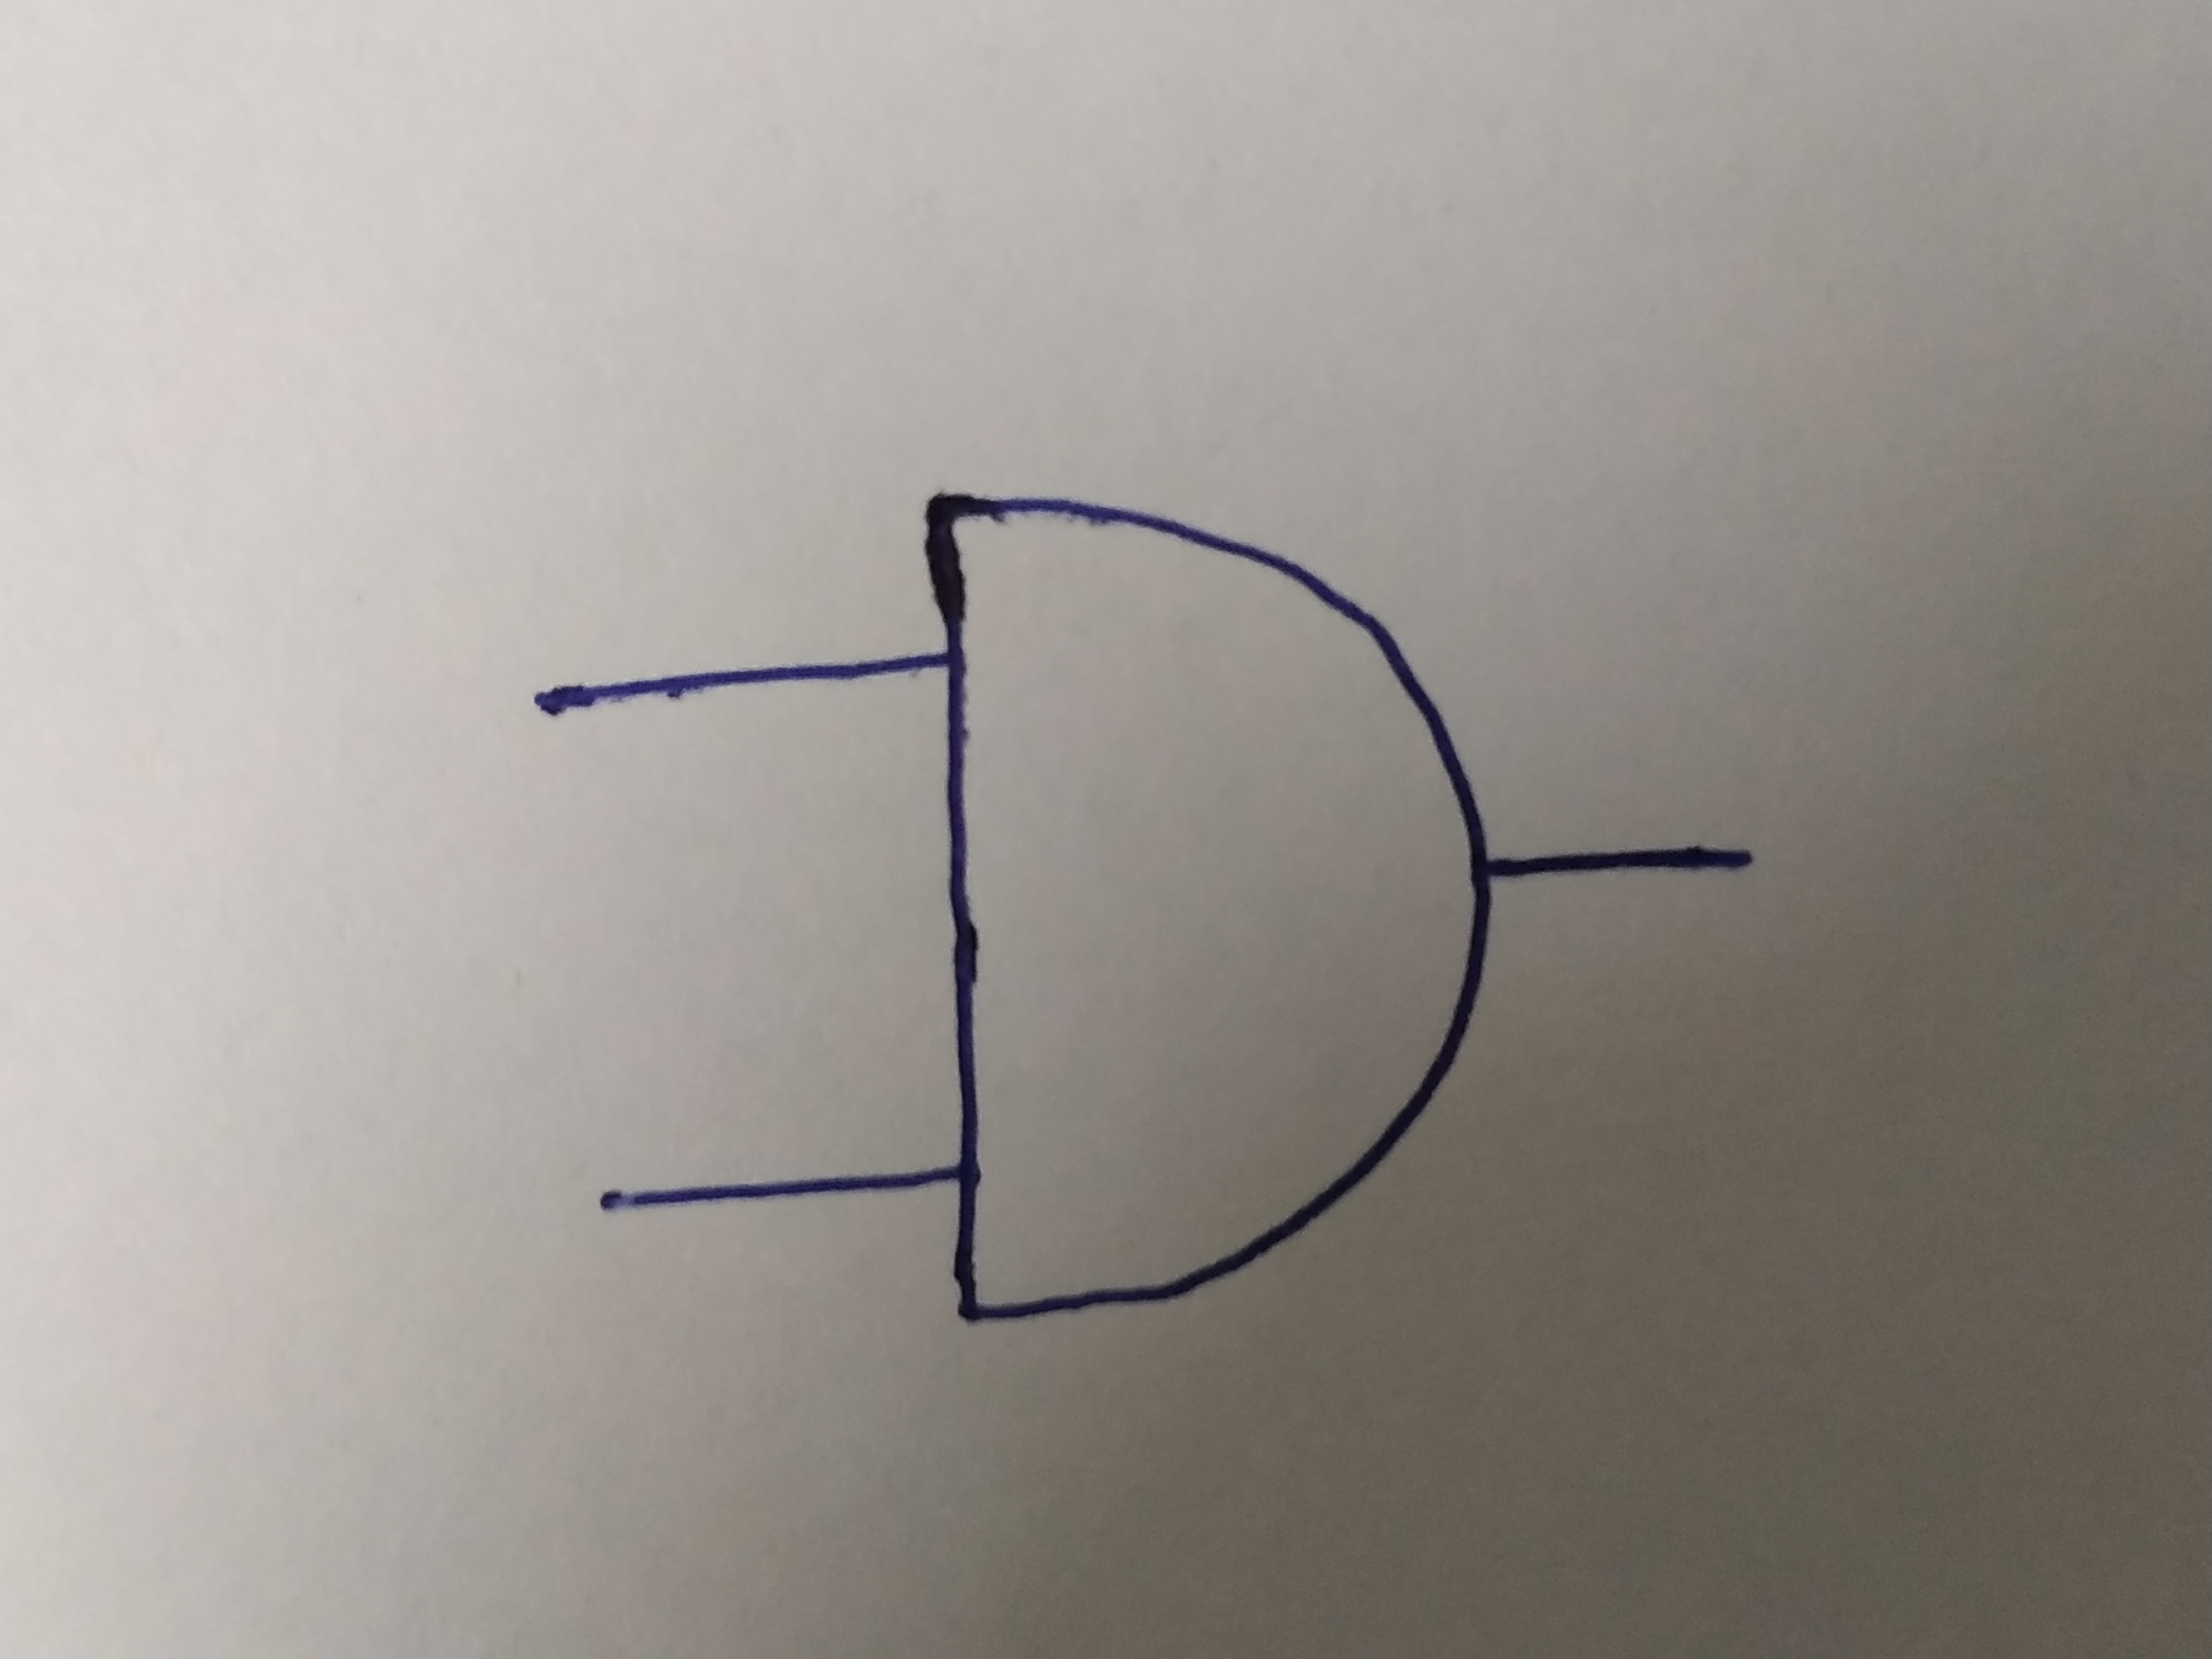and: (920, 498, 1480, 1317)
